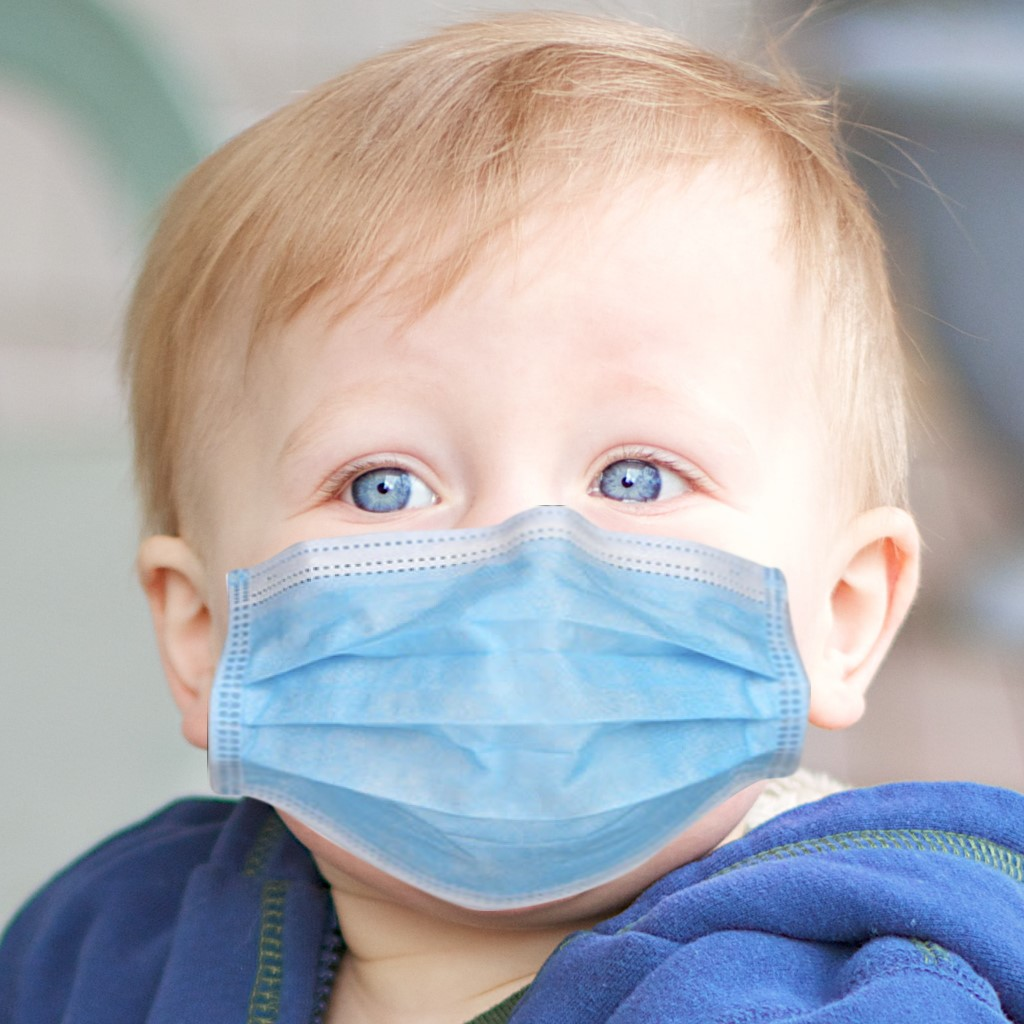con_mascara: (164, 28, 885, 905)
